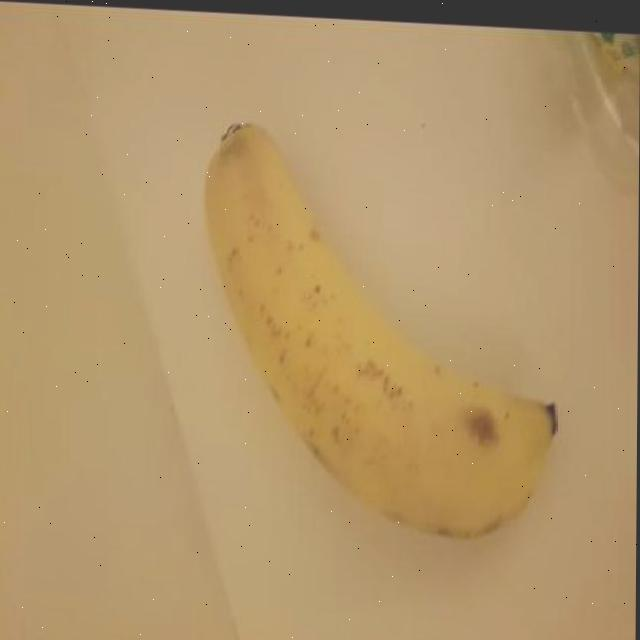banana: (184, 112, 569, 557)
